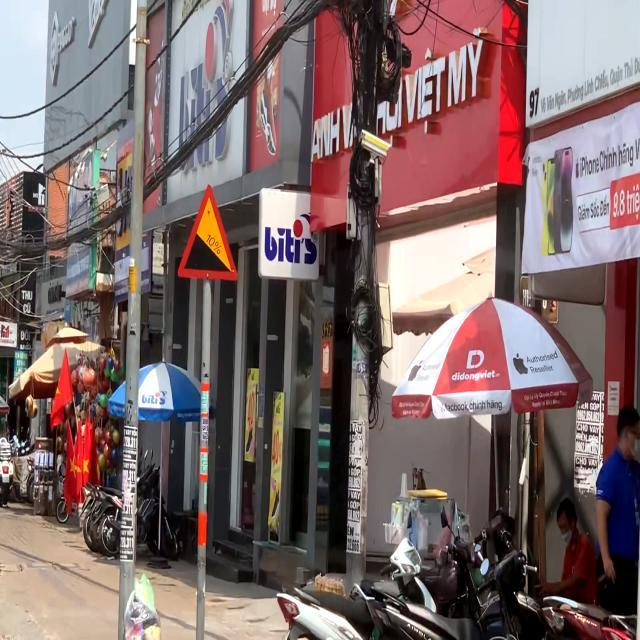W-220: (176, 183, 239, 279)
